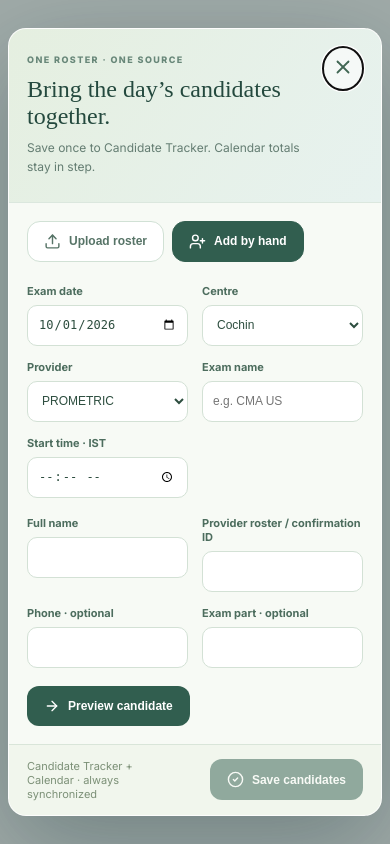
Test: Calendar candidate review › requires review before saving one full-name candidate and invalidates the preview when scope changes
The width and height of the screenshot is (390, 844).
Expected: the button "Save candidates" is disabled, [210,759,363,800]
Type "Alex Thomas Joseph" into the field labelled "Full name" at (108, 557), box [27,537,188,578]
Type "00042" into the field labelled "Provider roster / confirmation ID" at (282, 571), box [202,551,363,592]
Type "CMA US" into the field labelled "Exam name" at (282, 401), box [202,381,363,422]
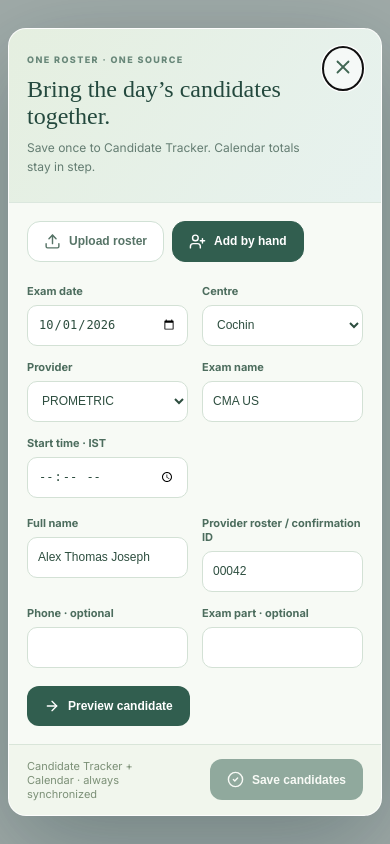
Type "09:30" into the time field labelled "Start time · IST" at (108, 477), box [27,457,188,498]
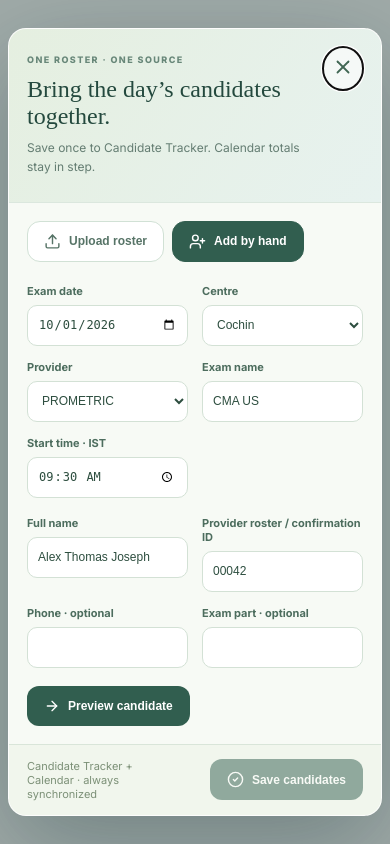
Click the button "Preview candidate" at (108, 706), box [27,686,190,726]
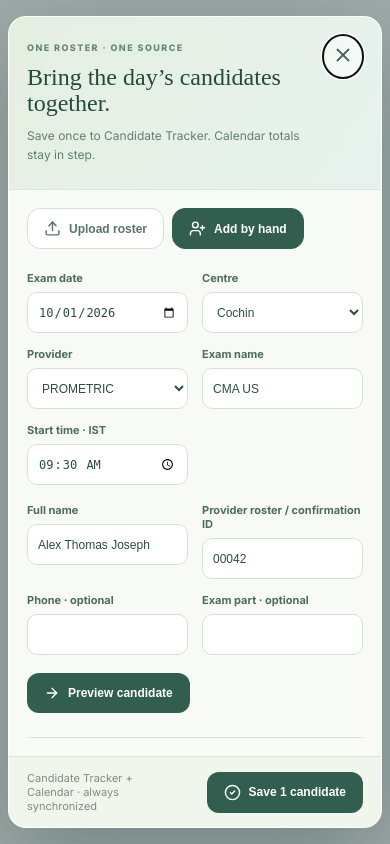
Select "Calicut" in the dropdown labelled "Centre" at (282, 312), box [202,292,363,333]
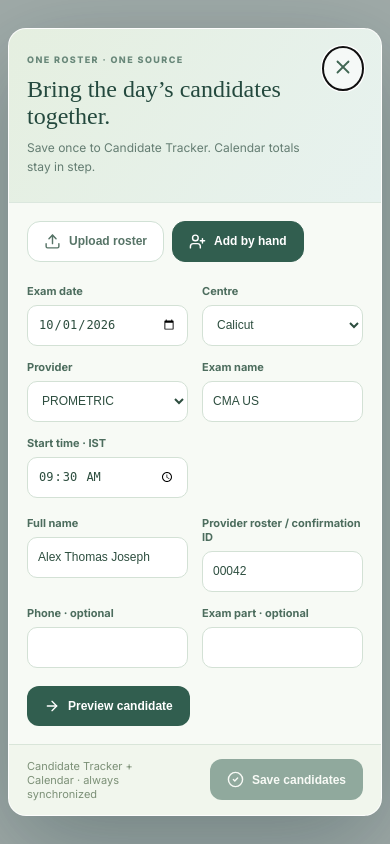
Click the button "Preview candidate" at (108, 706), box [27,686,190,726]
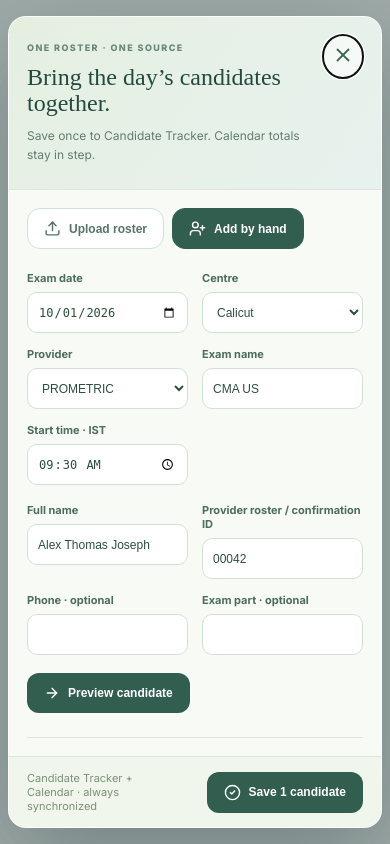
Click the button "Save 1 candidate" at (285, 792), box [207,772,363,813]
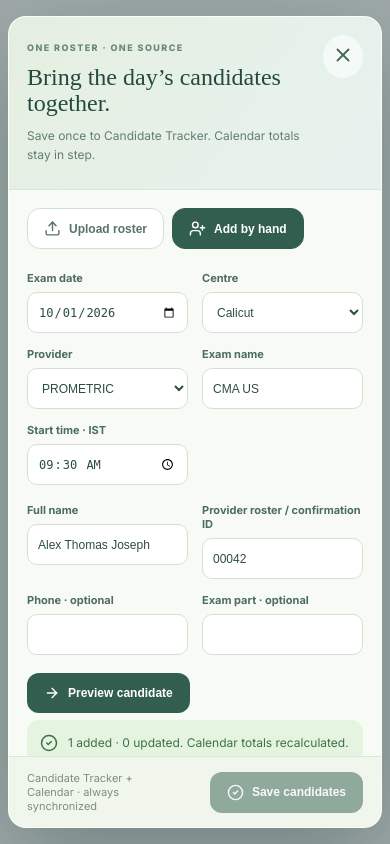
Expected: the text "1 added · 0 updated. Calendar totals recalculated." is shown, [27,720,363,756]
